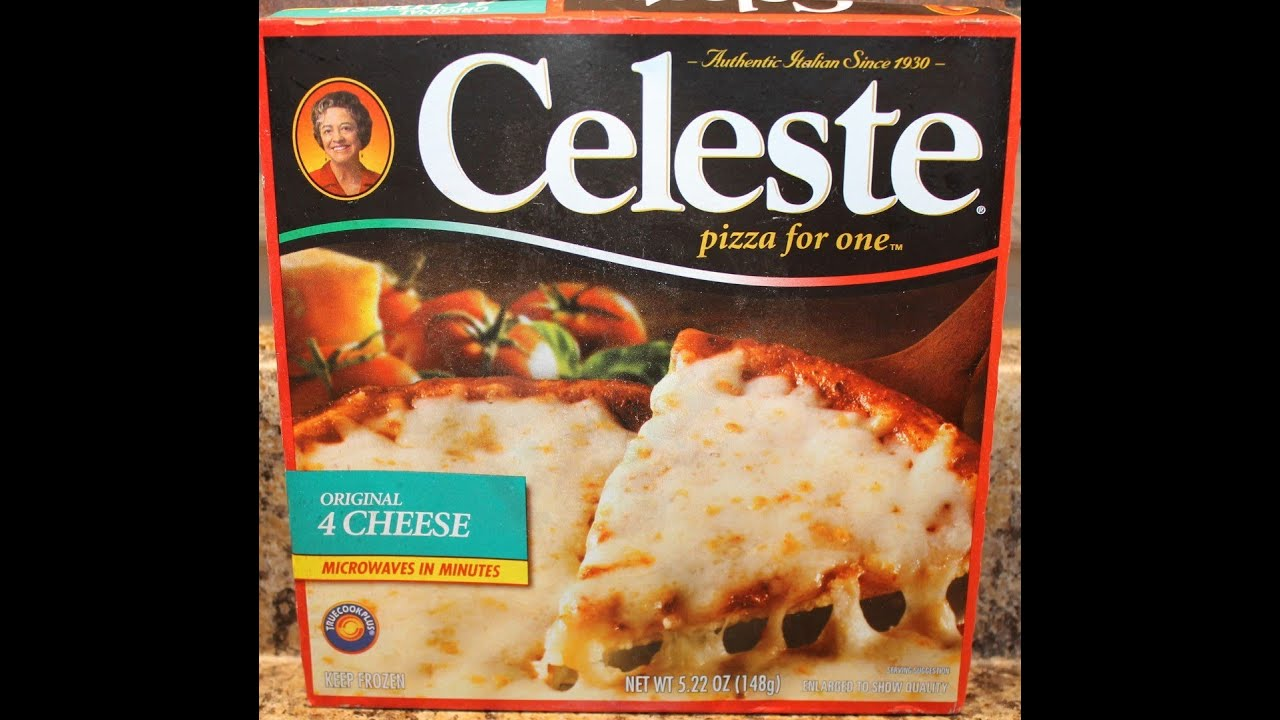cheese: (598, 370, 927, 604)
